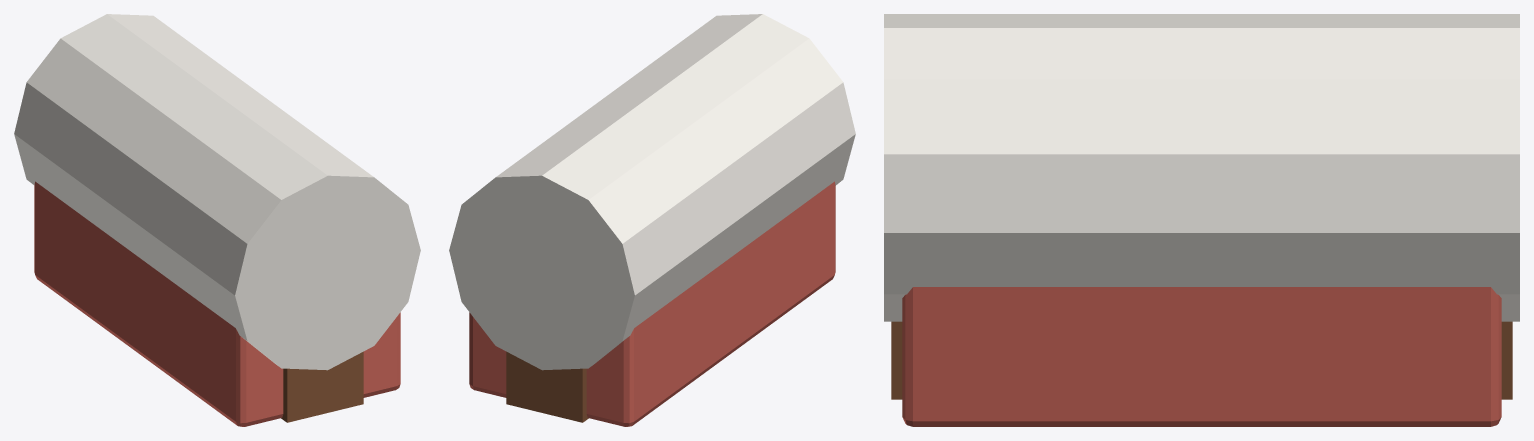
The model's file is barn.glb.
3 renders of one model, left to right at view 1: azimuth 30°, elevation 25°; view 2: azimuth 150°, elevation 25°; view 3: azimuth 270°, elevation 25°, orthographic. The views are drawn at different scales.
Parts seen in each view (by area): view 1: Barn; view 2: Barn; view 3: Barn.
Part boxes in pixels (x1=…): Barn: x1=14, y1=14, x2=420, y2=426; Barn: x1=449, y1=14, x2=855, y2=426; Barn: x1=884, y1=14, x2=1519, y2=426.
Bounding box in the file's own units: 1.7 × 2.1 × 3.5.
